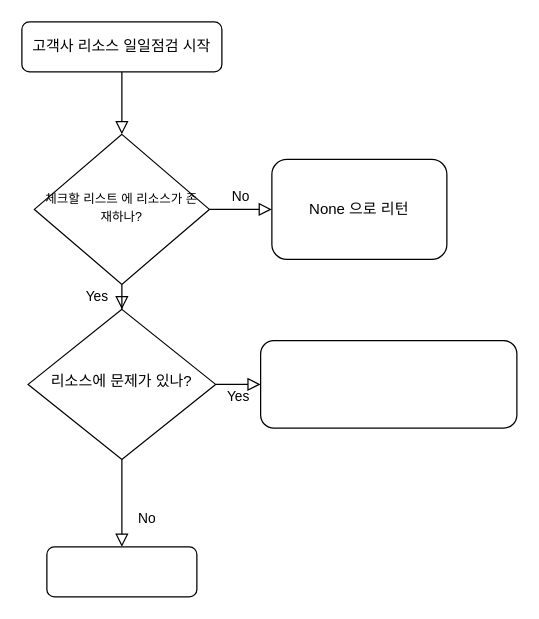
This 539x619 diagram has some shape labels left out. Each missing label, with the centre of its shape:
"Success로 리턴" belongs at (121,571).
"Warning 으로 반환과 함께 리소스 정보 데이터베이스 입력" belongs at (388,383).
